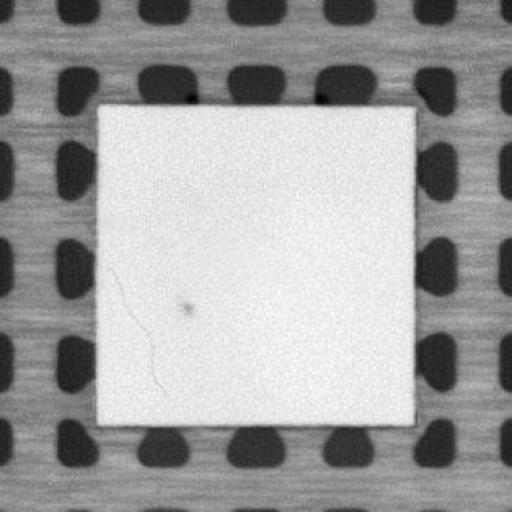DIE_CRACK: (103, 266, 167, 395)
DIE_INK: (178, 296, 196, 319)
